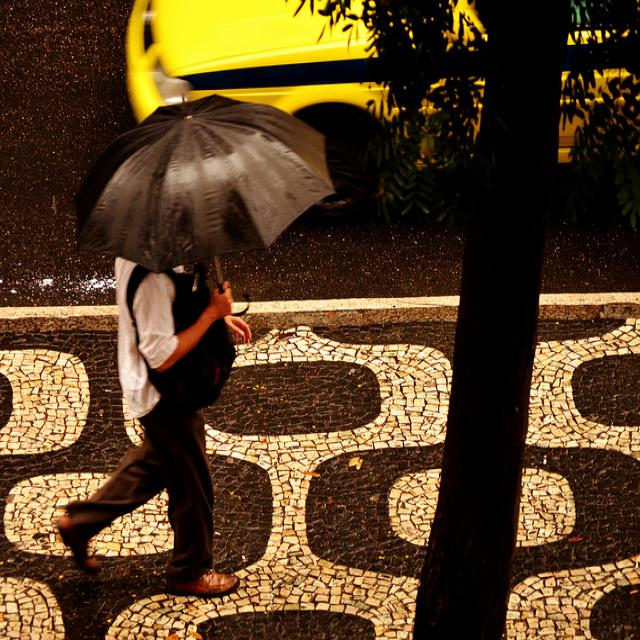Vehicle: (115, 0, 640, 209)
